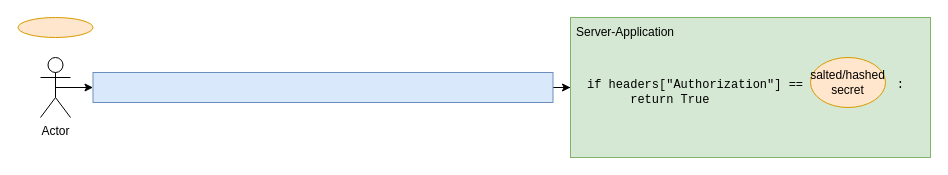
Image size: 948x175. Some labels were removed from this diagram. The shapes that lost their labels are listed below. From the top down, each one's box as (x1, y1, x2, y2) in pixels, then its label:
(17, 16, 93, 38): secret
(92, 72, 553, 102): TLS / HTTPS
